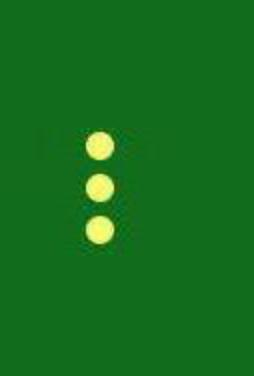ImgButton: (1, 1, 253, 375)
